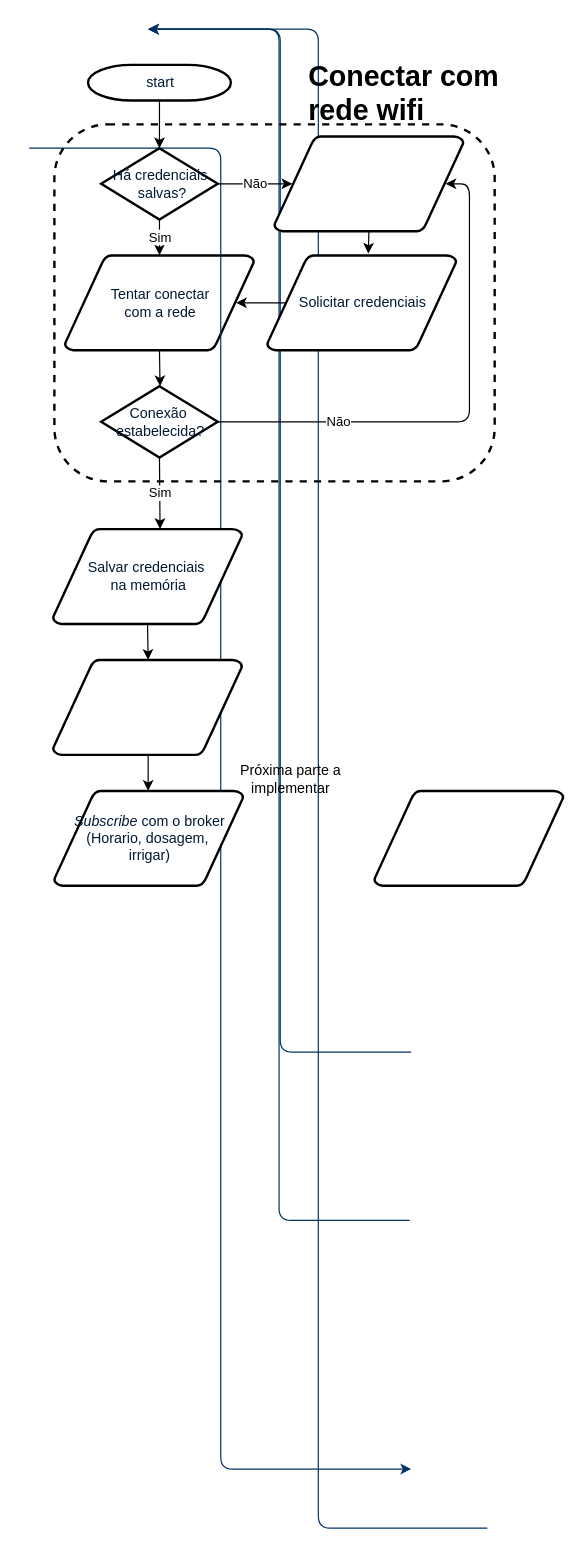
Image size: 585x1559. Some labels were removed from this diagram. The shapes that lost their labels are listed below. From the top down, each one's centre as x and y in pixels, then its label:
the point at 368,183: Escanear redes
the point at 147,707: Ajusta RTC (sincroniza com servidor da web)
the point at 468,838: Publish de dados de temperatura e nível
